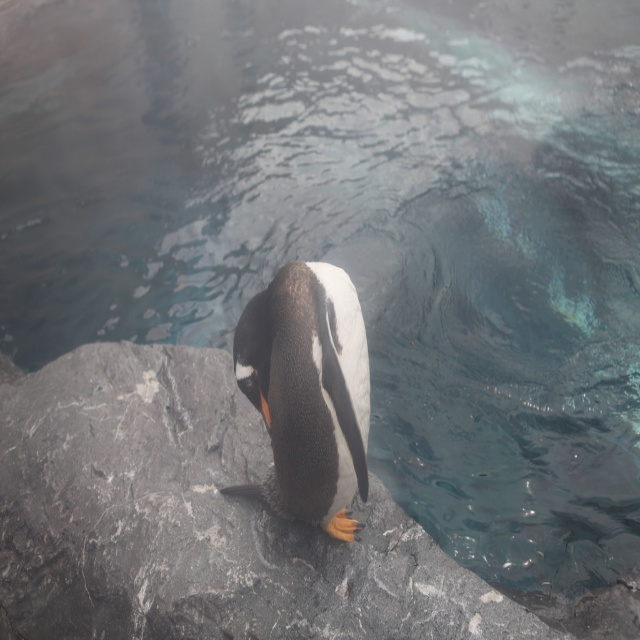Penguin: (218, 253, 372, 543)
